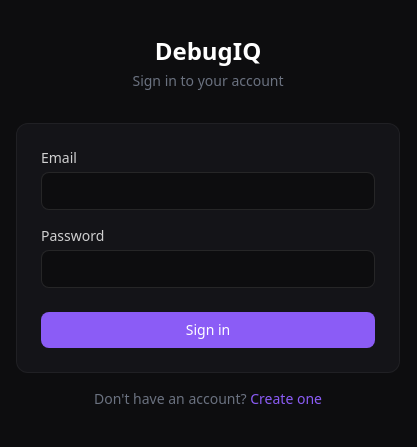
Test: LoginPage — error rendering › shows an error alert when login rejects
The image size is (417, 447).
In the field labelled "Email": (208, 191) [41,172,375,210], type "user@example.com"
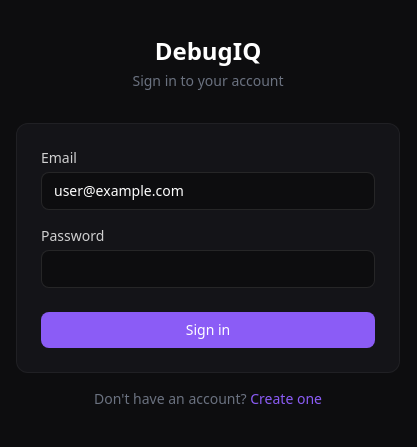
In the password field labelled "Password": (208, 269) [41,250,375,288], type "password123"
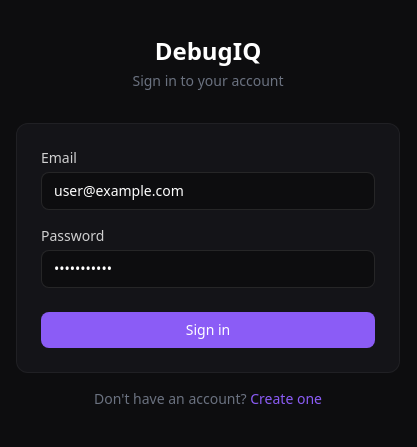
Submit the form from the button "Sign in", box [41,312,375,348]
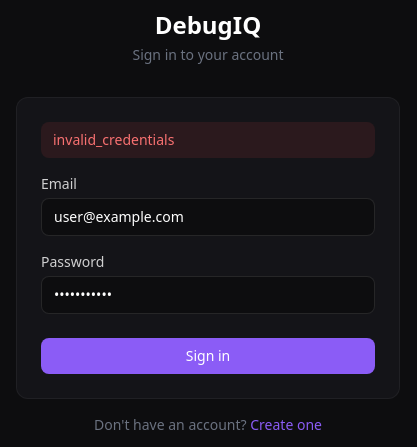
Now the text "invalid_credentials" is shown, box [41,122,375,158]
